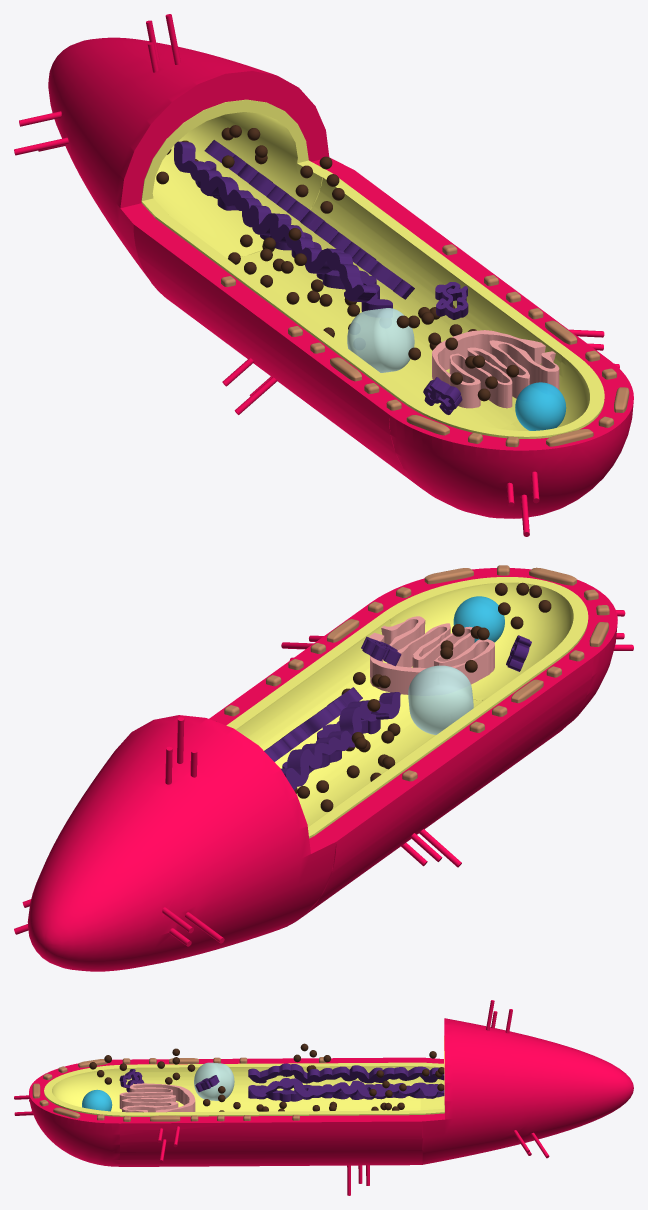
Rendered from Bacteria.glb.
3 renders of one model, top to bottom at view 1: azimuth 30°, elevation 25°; view 2: azimuth 150°, elevation 25°; view 3: azimuth 270°, elevation 25°, orthographic. The views are drawn at different scales.
Parts seen in each view (by area): view 1: Mesh_2.001, Mesh_3.001, Mesh_6.001, Mesh_4.001, Mesh_7.001, Mesh_1.001, Mesh_0.001, Mesh_5.001; view 2: Mesh_2.001, Mesh_3.001, Mesh_6.001, Mesh_4.001, Mesh_1.001, Mesh_7.001, Mesh_0.001, Mesh_5.001; view 3: Mesh_2.001, Mesh_3.001, Mesh_6.001, Mesh_7.001, Mesh_4.001, Mesh_1.001, Mesh_0.001, Mesh_5.001.
Part boxes in pixels (x1=…): Mesh_2.001: x1=14, y1=14, x2=633, y2=536; Mesh_3.001: x1=141, y1=99, x2=604, y2=438; Mesh_6.001: x1=174, y1=140, x2=468, y2=414; Mesh_4.001: x1=432, y1=330, x2=559, y2=408; Mesh_7.001: x1=156, y1=125, x2=518, y2=401; Mesh_1.001: x1=221, y1=244, x2=629, y2=447; Mesh_0.001: x1=347, y1=308, x2=414, y2=372; Mesh_5.001: x1=515, y1=382, x2=566, y2=430; Mesh_2.001: x1=14, y1=568, x2=633, y2=971; Mesh_3.001: x1=226, y1=577, x2=588, y2=838; Mesh_6.001: x1=264, y1=635, x2=531, y2=790; Mesh_4.001: x1=369, y1=616, x2=494, y2=694; Mesh_1.001: x1=224, y1=565, x2=609, y2=781; Mesh_7.001: x1=294, y1=582, x2=551, y2=811; Mesh_0.001: x1=408, y1=665, x2=473, y2=734; Mesh_5.001: x1=453, y1=596, x2=504, y2=642; Mesh_2.001: x1=14, y1=1000, x2=633, y2=1195; Mesh_3.001: x1=44, y1=1036, x2=444, y2=1116; Mesh_6.001: x1=119, y1=1063, x2=444, y2=1101; Mesh_7.001: x1=89, y1=1043, x2=444, y2=1111; Mesh_4.001: x1=119, y1=1083, x2=195, y2=1112; Mesh_1.001: x1=32, y1=1057, x2=325, y2=1121; Mesh_0.001: x1=194, y1=1062, x2=234, y2=1100; Mesh_5.001: x1=82, y1=1089, x2=112, y2=1111.
Bounding box in the file's own units: 6.69 × 7.07 × 21.94.
